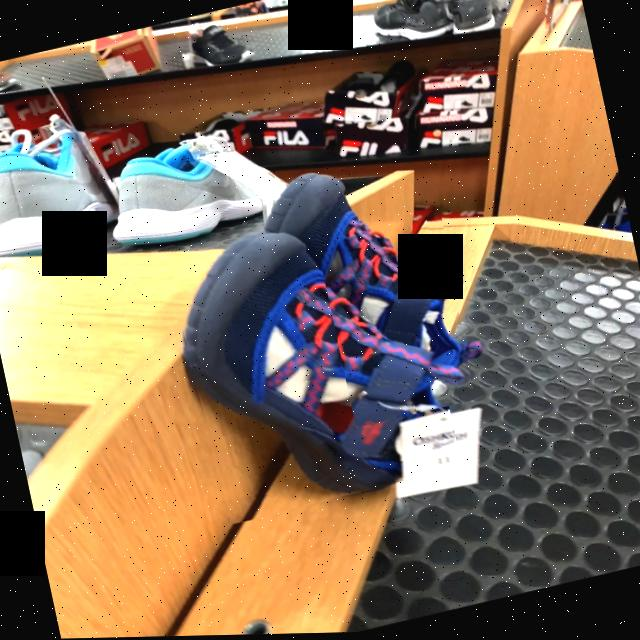shoe: (187, 236, 443, 493), (321, 215, 464, 418)
